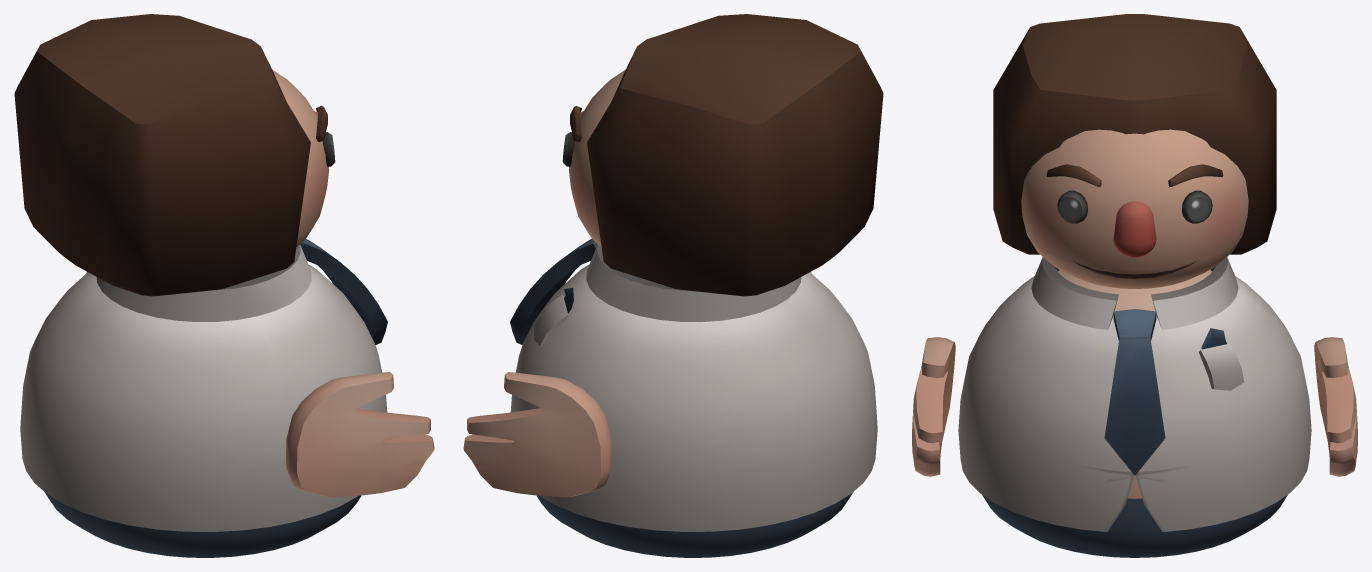
The model's file is NPCMaleOne_SM.FBX.
3 renders of one model, left to right at view 1: azimuth 30°, elevation 25°; view 2: azimuth 150°, elevation 25°; view 3: azimuth 270°, elevation 25°, orthographic. The views are drawn at different scales.
Parts seen in each view (by area): view 1: NPCMaleOne; view 2: NPCMaleOne; view 3: NPCMaleOne.
Boxes of the visible parts, bbox=[...] form: NPCMaleOne: bbox=[14, 14, 434, 557]; NPCMaleOne: bbox=[463, 14, 883, 557]; NPCMaleOne: bbox=[912, 14, 1357, 557].
Size of the model in its own units: 127 by 170 by 152.
